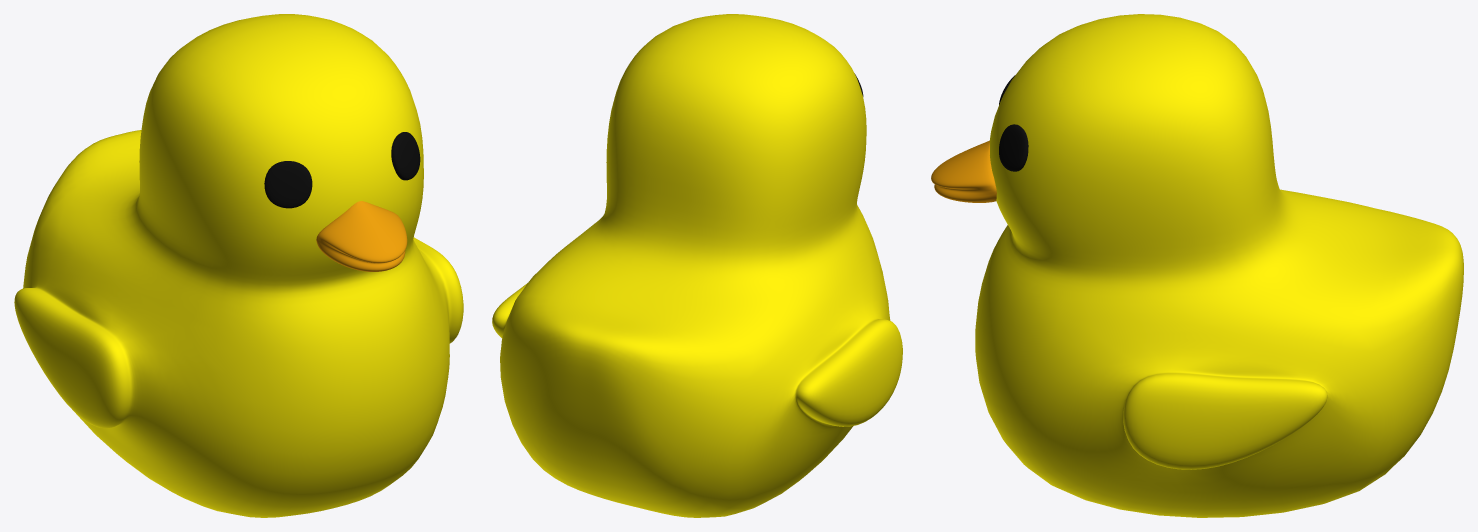
Rendered from uploads_files_2662102_duck.obj.
3 renders of one model, left to right at view 1: azimuth 30°, elevation 25°; view 2: azimuth 150°, elevation 25°; view 3: azimuth 270°, elevation 25°, orthographic. The views are drawn at different scales.
Visible parts, largest first — view 1: Duck; view 2: Duck; view 3: Duck.
Boxes of the visible parts, left/top/right/bottom form: Duck: left=14, top=14, right=463, bottom=517; Duck: left=492, top=14, right=902, bottom=517; Duck: left=931, top=14, right=1463, bottom=517.
Bounding box in the file's own units: 908 × 1113 × 1175.
